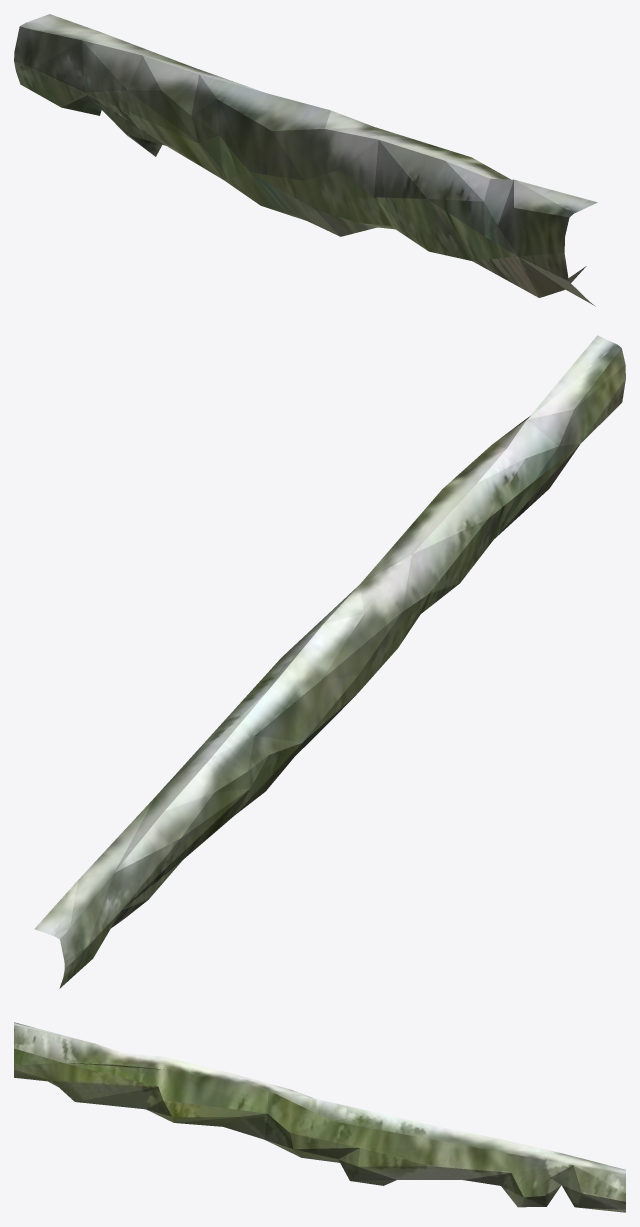
3 views of the same model, one above another, from view 1: azimuth 30°, elevation 25°; view 2: azimuth 150°, elevation 25°; view 3: azimuth 270°, elevation 25° (orthographic). The views are drawn at different scales.
Size of the model in its own units: 0.3302 by 0.9239 by 2.95.
1 material, 1 textured.
